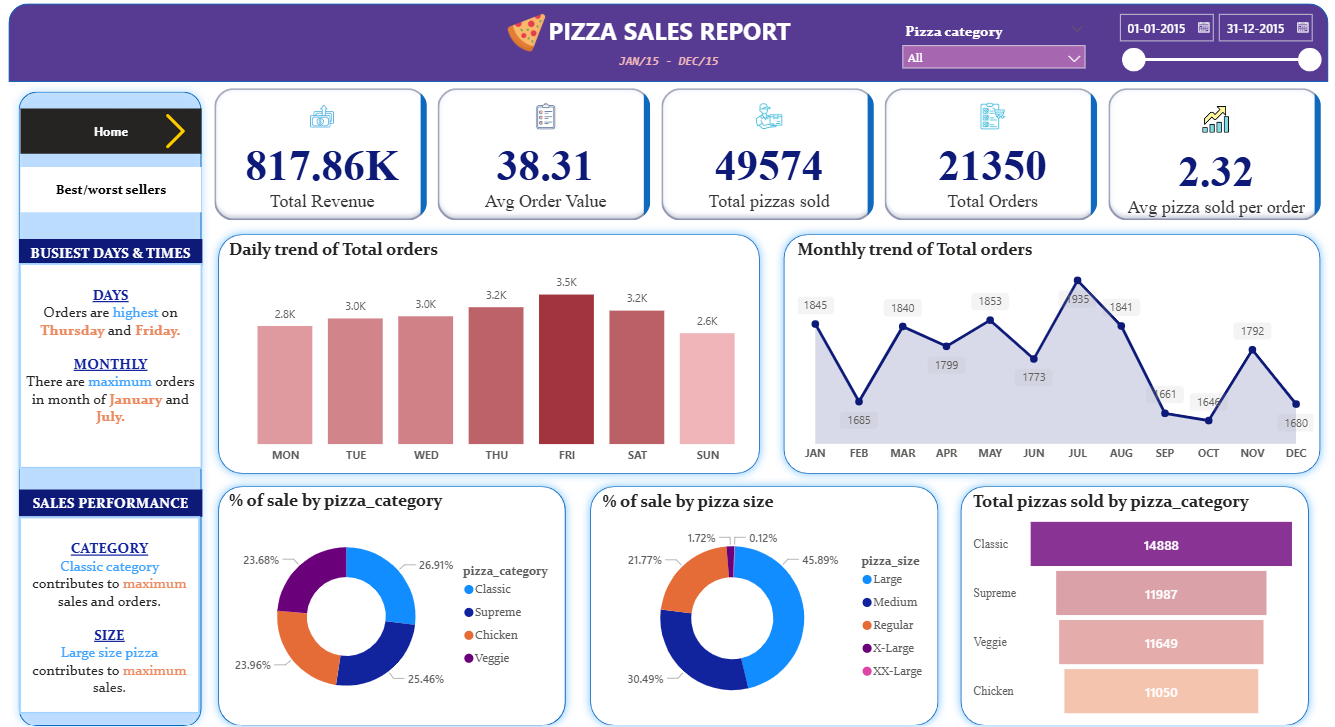

The dashboard page shown, as its layout file describes it:
{"tool":"powerbi","page":{"name":"Home","canvas":[1500,820],"ordinal":0},"visuals":[{"type":"cardVisual","fields":{"Data":["pizza_sales.Total Revenue","pizza_sales.Avg Order Value","pizza_sales.Total pizzas sold","pizza_sales.Total Orders","pizza_sales.Avg pizza sold per order"]},"box":[243.4,97.7,1235.6,158.6],"z":0},{"type":"shape","box":[22.1,11.1,1458.7,86.7],"z":1000},{"type":"textbox","box":[593.8,18.4,317.2,47.9],"z":2000},{"type":"image","box":[566.1,11.1,53.5,64.5],"z":3000},{"type":"textbox","box":[665.7,59,169.7,38.7],"z":4000},{"type":"shape","box":[243.4,256.3,617.8,284],"z":5000},{"type":"columnChart","title":"Daily trend of Total orders","fields":{"Category":["pizza_sales.orderday name"],"Y":["pizza_sales.Total Orders"]},"box":[260,271.1,601.2,256.3],"z":6000},{"type":"shape","box":[868.6,256.3,612.2,284],"z":7000},{"type":"areaChart","title":"Monthly trend of Total orders","fields":{"Category":["pizza_sales.Month init"],"Y":["pizza_sales.Total Orders"]},"box":[888.3,271.7,580,255],"z":8000},{"type":"shape","box":[243.3,535.6,403.3,284.4],"z":9000},{"type":"shape","box":[654,536,404,284],"z":10000},{"type":"shape","box":[1064,536,404,284],"z":11000},{"type":"donutChart","title":"% of sale by pizza_category","fields":{"Y":["pizza_sales.Total Revenue"],"Category":["pizza_sales.pizza_category"]},"box":[260,548.9,376.7,256.7],"z":12000},{"type":"donutChart","title":"% of sale by pizza size","fields":{"Y":["pizza_sales.Total Revenue"],"Category":["pizza_sales.pizza_size"]},"box":[672.9,550,377.1,257.1],"z":13000},{"type":"funnel","fields":{"Y":["pizza_sales.Total pizzas sold"],"Category":["pizza_sales.pizza_category"]},"box":[1082.9,550,367.1,255.7],"z":14000},{"type":"shape","box":[22.5,98.8,221.2,721.2],"z":15000},{"type":"textbox","box":[32.5,271.2,202.5,30],"z":16000},{"type":"textbox","box":[32.5,298.8,202.5,227.5],"z":17000},{"type":"textbox","box":[32.5,548.8,202.5,30],"z":18000},{"type":"textbox","box":[33.3,578.9,200,217.8],"z":19000},{"type":"slicer","fields":{"Values":["pizza_sales.pizza_category"]},"box":[1000,26,222,80],"z":20000},{"type":"slicer","fields":{"Values":["pizza_sales.order_date"]},"box":[1236,14,244,80],"z":21000},{"type":"pageNavigator","box":[34,128,200,50],"z":21001},{"type":"pageNavigator","box":[34,192,200,50],"z":21002},{"type":"image","box":[178.9,127.2,53.5,49.8],"z":21003}]}

Visuals, with their boxes in screenshot pixels (x1, y1, x2, y2), scaled from the page's 1500x820 canvas onto the 1335x727 screenshot:
cardVisual - pizza_sales.Total Revenue x pizza_sales.Avg Order Value: crop(217, 87, 1316, 227)
shape: crop(20, 10, 1318, 87)
textbox: crop(528, 16, 811, 59)
image: crop(504, 10, 551, 67)
textbox: crop(592, 52, 744, 87)
shape: crop(217, 227, 766, 479)
"Daily trend of Total orders" columnChart: crop(231, 240, 766, 468)
shape: crop(773, 227, 1318, 479)
"Monthly trend of Total orders" areaChart: crop(791, 241, 1307, 467)
shape: crop(217, 475, 575, 726)
shape: crop(582, 475, 942, 726)
shape: crop(947, 475, 1307, 726)
"% of sale by pizza_category" donutChart: crop(231, 487, 567, 714)
"% of sale by pizza size" donutChart: crop(599, 488, 934, 716)
funnel - pizza_sales.Total pizzas sold x pizza_sales.pizza_category: crop(964, 488, 1290, 714)
shape: crop(20, 88, 217, 726)
textbox: crop(29, 240, 209, 267)
textbox: crop(29, 265, 209, 467)
textbox: crop(29, 487, 209, 513)
textbox: crop(30, 513, 208, 706)
slicer - pizza_sales.pizza_category: crop(890, 23, 1088, 94)
slicer - pizza_sales.order_date: crop(1100, 12, 1317, 83)
pageNavigator: crop(30, 113, 208, 158)
pageNavigator: crop(30, 170, 208, 215)
image: crop(159, 113, 207, 157)
